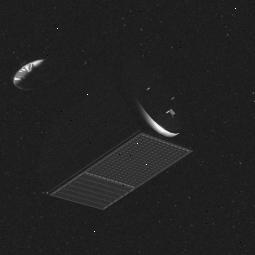cheops: (11, 57, 171, 198)
